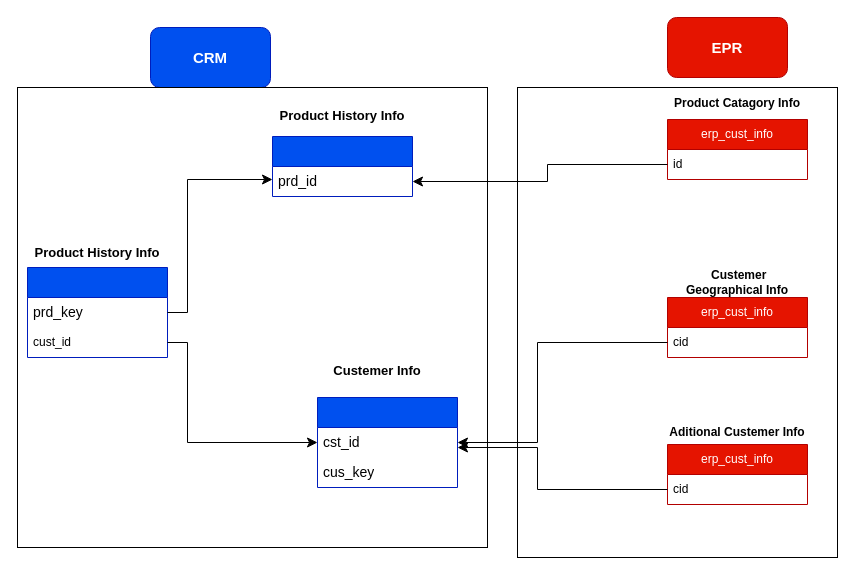
This 855x575 diagram has some shape labels left out. The box of each missing label's shape, as (x1, y1, x2, y2) in pixels:
crm_cust_info: (316, 396, 458, 488)
crm_prd_info: (272, 136, 412, 196)
crm_salse_detaile: (26, 266, 168, 358)
